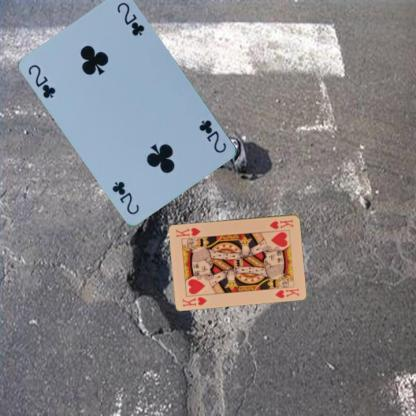2c: (26, 62, 58, 100), (197, 117, 228, 154)
Kh: (268, 216, 295, 231), (180, 294, 208, 308)
